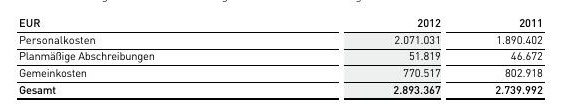table: (0, 0, 561, 110)
